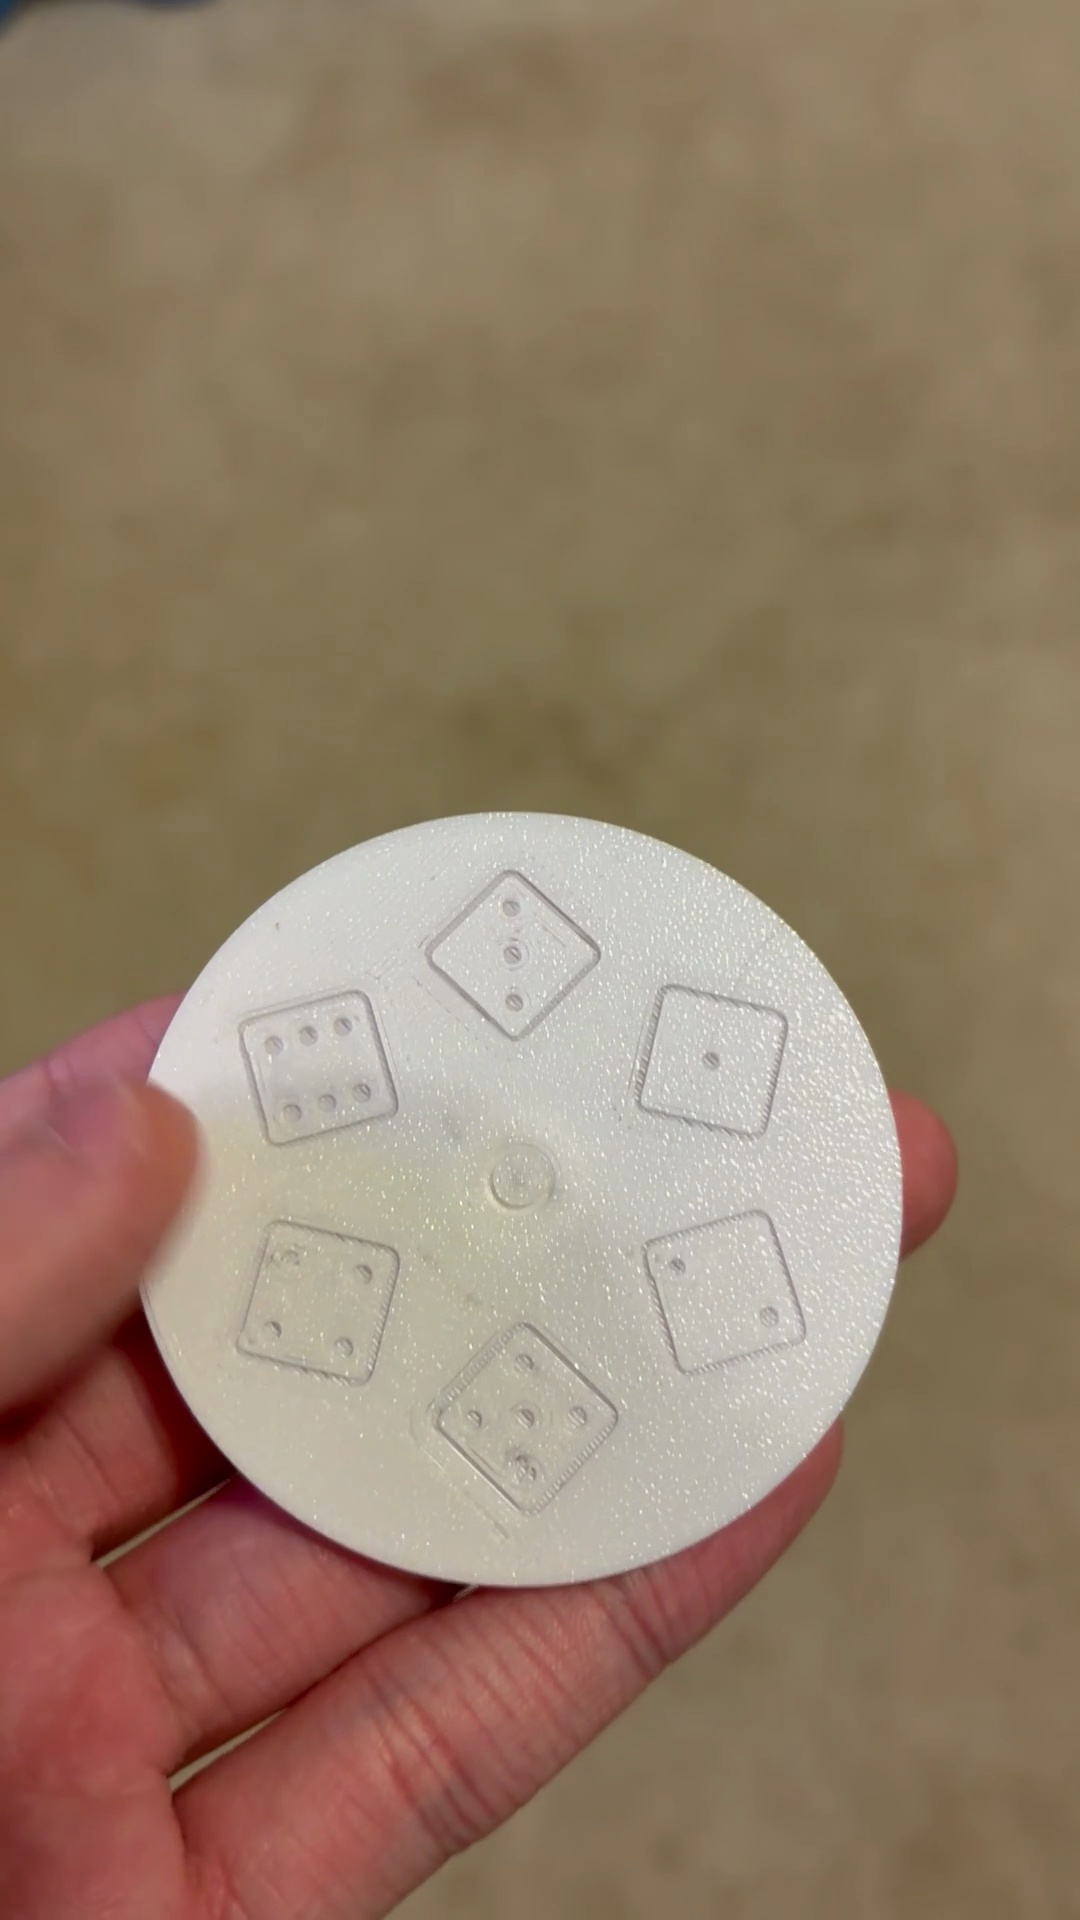Part1: (142, 814, 899, 1586)
